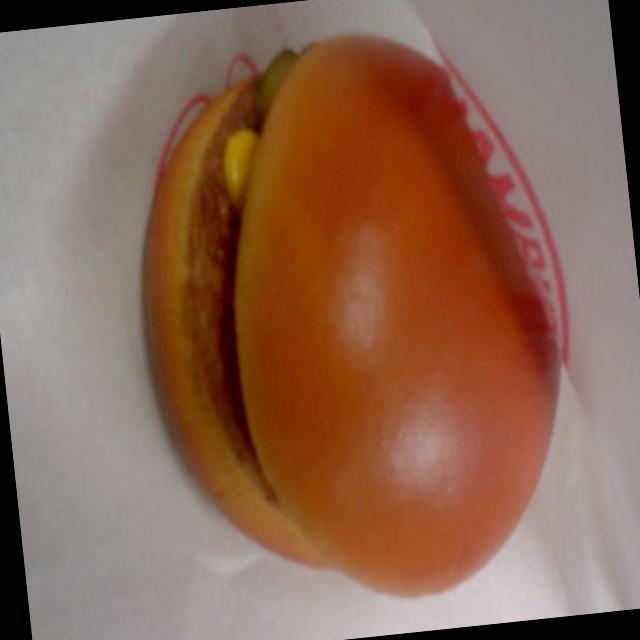Hamburger: (93, 6, 602, 636)
